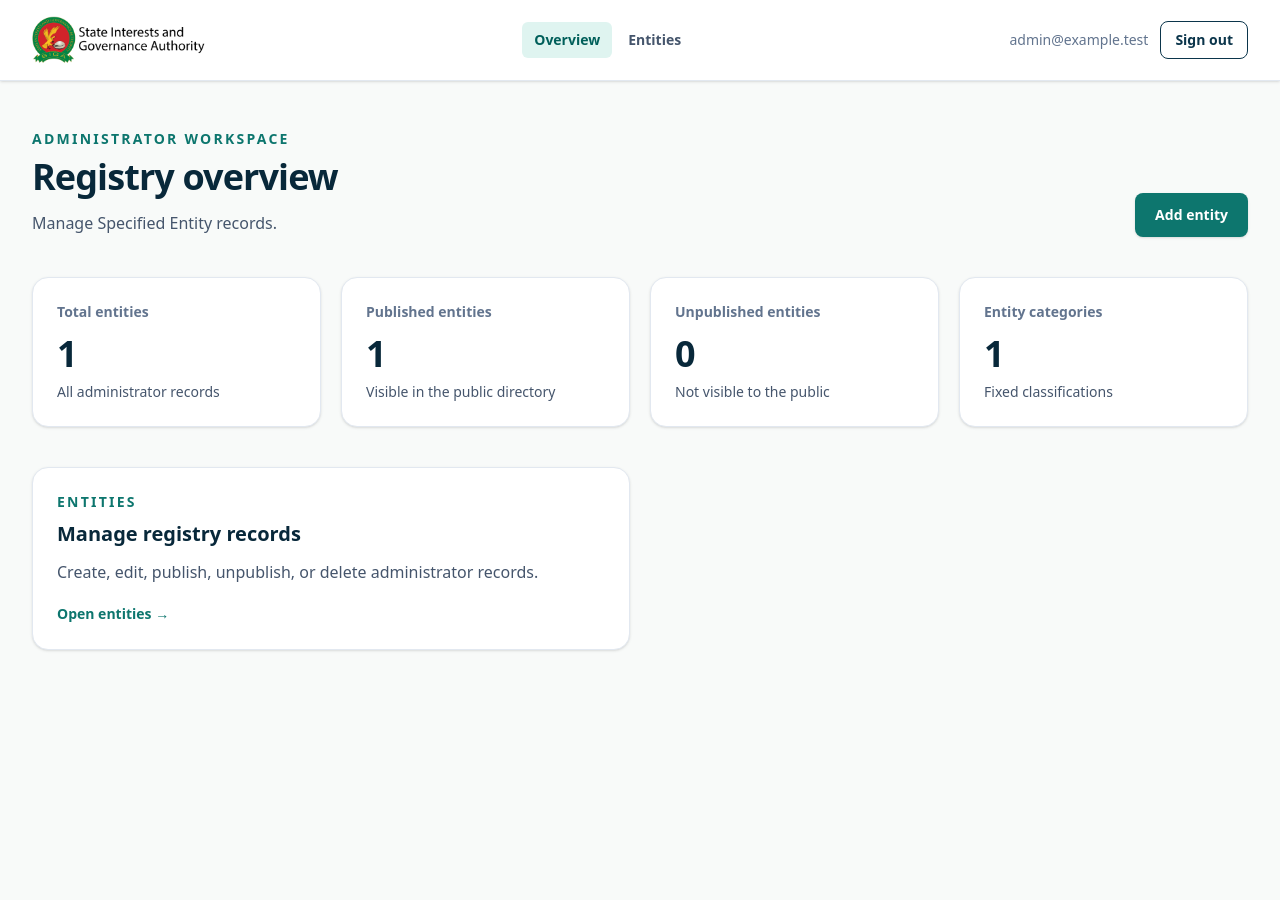
Test: administrator interface › logs out through the protected endpoint and clears administrator access
Expected: the heading "Registry overview" is shown, [32,157,338,197]
Step 1. Click the button "Sign out" → (1204, 40), box [1160,21,1248,59]
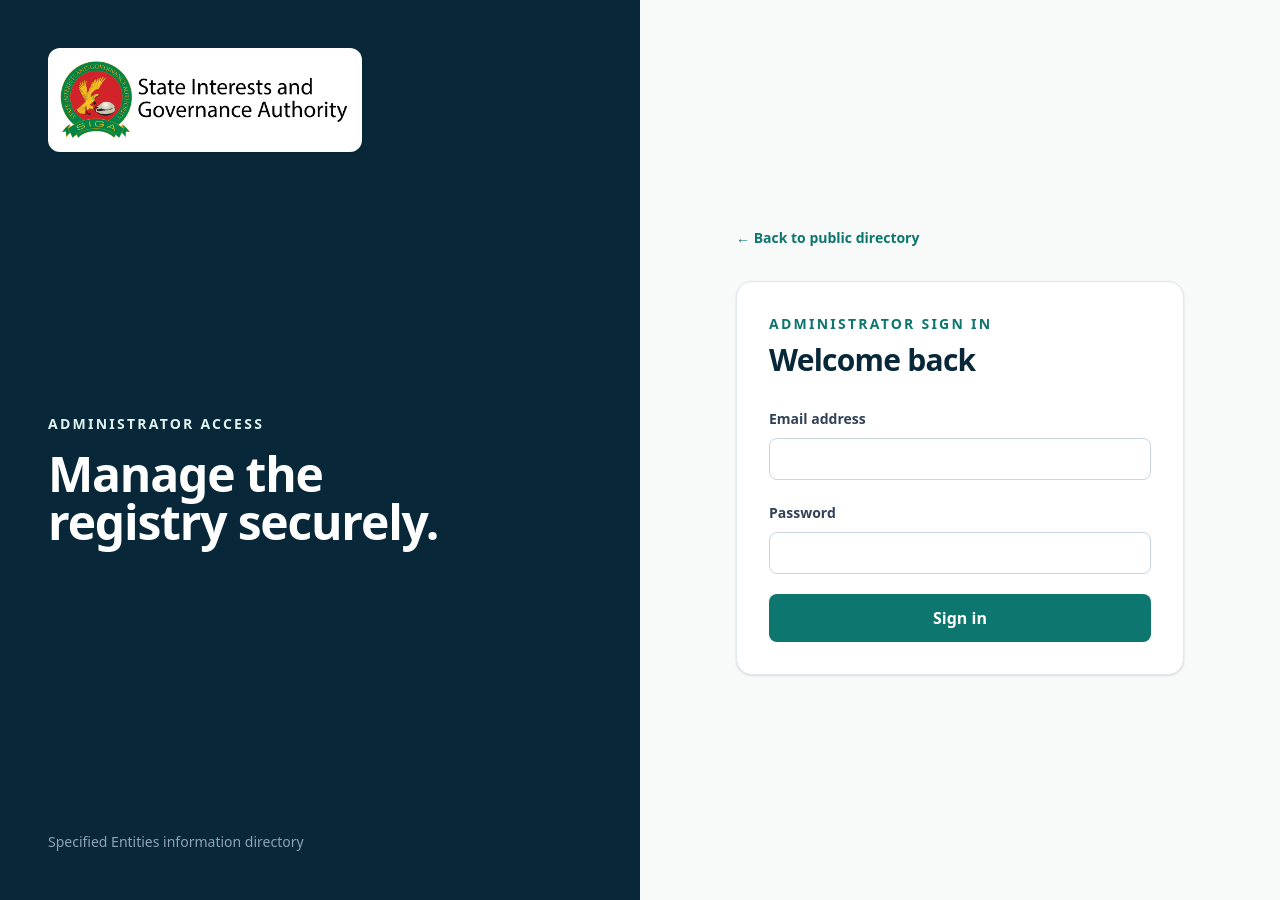
Expected: the heading "Welcome back" is shown, [769,339,975,380]
